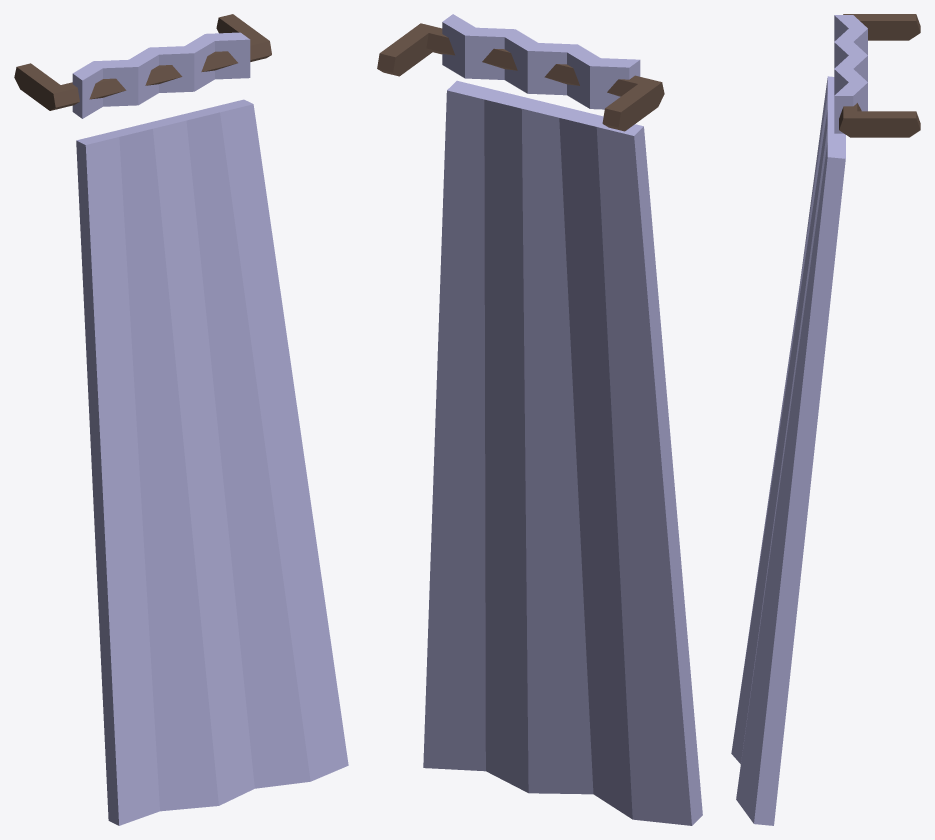
The model's file is firanka.fbx.
3 renders of one model, left to right at view 1: azimuth 30°, elevation 25°; view 2: azimuth 150°, elevation 25°; view 3: azimuth 270°, elevation 25°, orthographic. The views are drawn at different scales.
Visible parts, largest first — view 1: Cylinder.007; view 2: Cylinder.007; view 3: Cylinder.007.
Boxes of the visible parts, x1,y1,x2,y2 form: Cylinder.007: [14, 14, 348, 825]; Cylinder.007: [377, 14, 702, 825]; Cylinder.007: [731, 14, 920, 825].
Bounding box in the file's own units: 418 × 1140 × 278.
